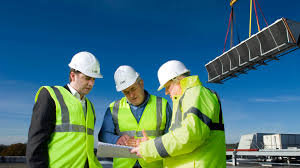Person_wearing_helmet: (59, 42, 104, 85)
